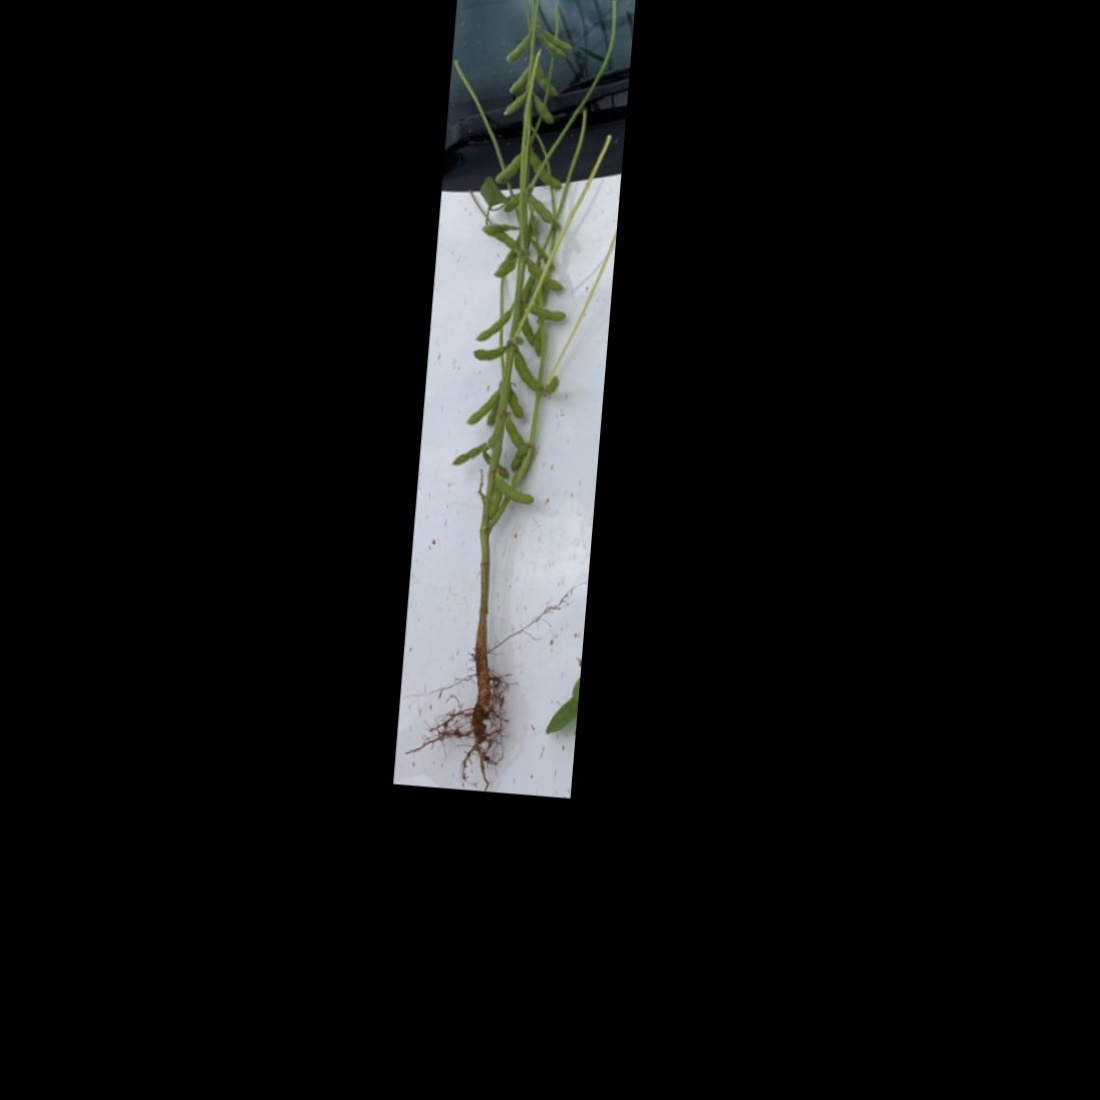pod: (525, 147, 565, 193), (521, 258, 570, 295), (508, 343, 542, 393), (463, 387, 502, 429), (449, 438, 498, 468), (526, 192, 565, 229), (475, 308, 514, 345), (495, 473, 537, 506), (500, 416, 536, 453), (526, 88, 558, 129), (532, 24, 576, 53), (504, 24, 532, 67), (491, 150, 522, 188), (531, 32, 571, 61), (533, 65, 562, 99), (469, 339, 507, 365), (524, 305, 568, 325), (508, 63, 534, 96), (499, 90, 527, 118), (508, 441, 532, 473)
soy: (420, 0, 612, 751)
